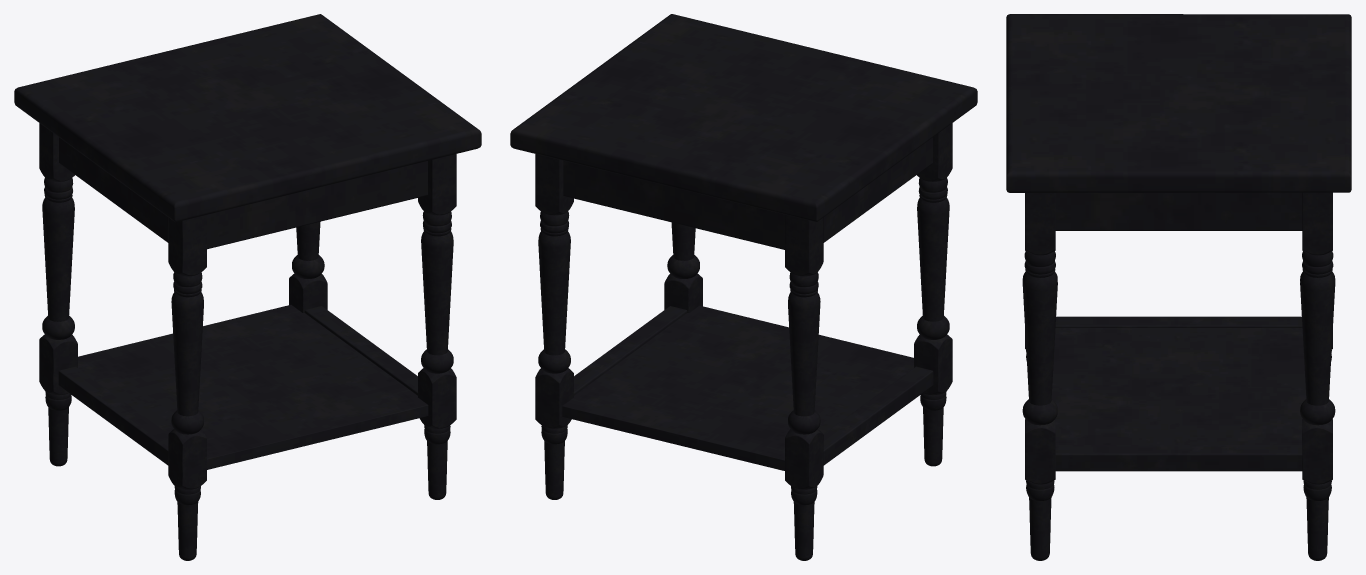
File: abo-B07DBDT59C.glb
The picture shows the model from 3 angles, left to right: view 1: azimuth 30°, elevation 25°; view 2: azimuth 150°, elevation 25°; view 3: azimuth 270°, elevation 25°; orthographic projection. The views are drawn at different scales.
Bounding box in the file's own units: 0.488 × 0.565 × 0.442.
1 material, 1 textured.
